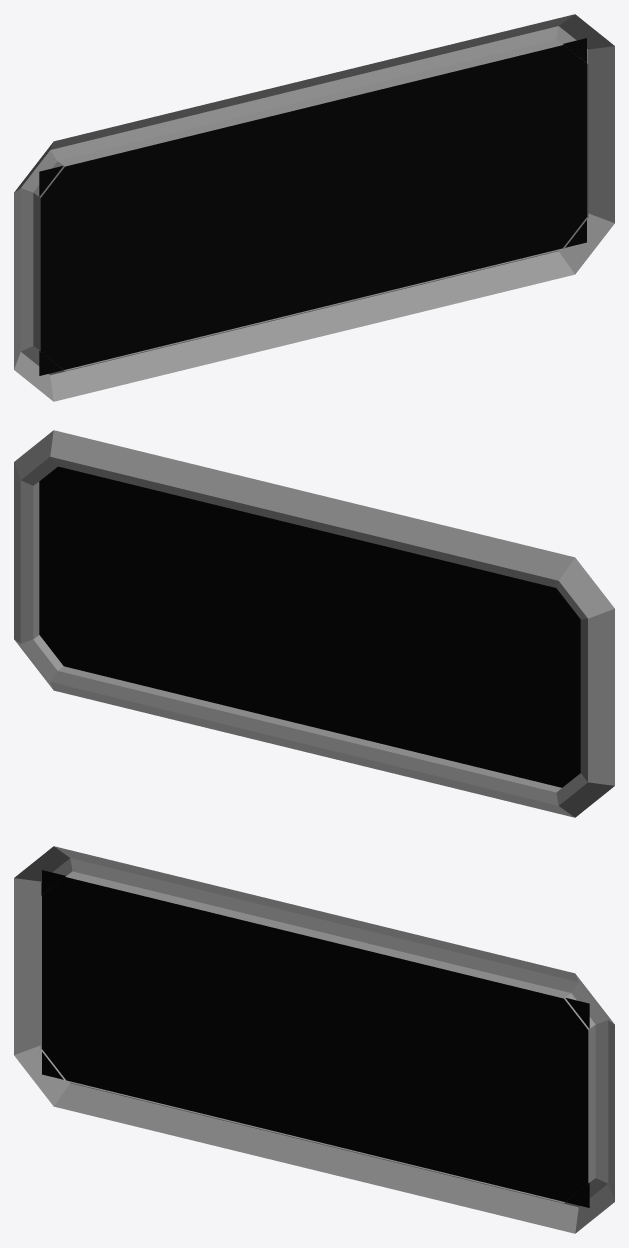
Rendered from Menu3D_Button_Narrow.glb.
3 renders of one model, top to bottom at view 1: azimuth 30°, elevation 25°; view 2: azimuth 150°, elevation 25°; view 3: azimuth 330°, elevation 25°, orthographic.
Visible parts, largest first — view 1: MenuButton3D; view 2: MenuButton3D; view 3: MenuButton3D.
Boxes of the visible parts, box(x1,y1,x2,y2) form: MenuButton3D: box(14, 14, 614, 401); MenuButton3D: box(14, 430, 614, 817); MenuButton3D: box(14, 846, 614, 1233).
Bounding box in the file's own units: 2.73 × 1.13 × 0.0789.
Materials: 1 (1 with a texture image).
